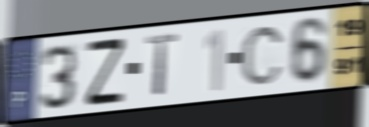1: (204, 27, 226, 94)
3: (39, 43, 79, 112)
6: (288, 16, 328, 86)
C: (240, 24, 286, 87)
T: (145, 32, 180, 100)
Z: (84, 35, 126, 108)
